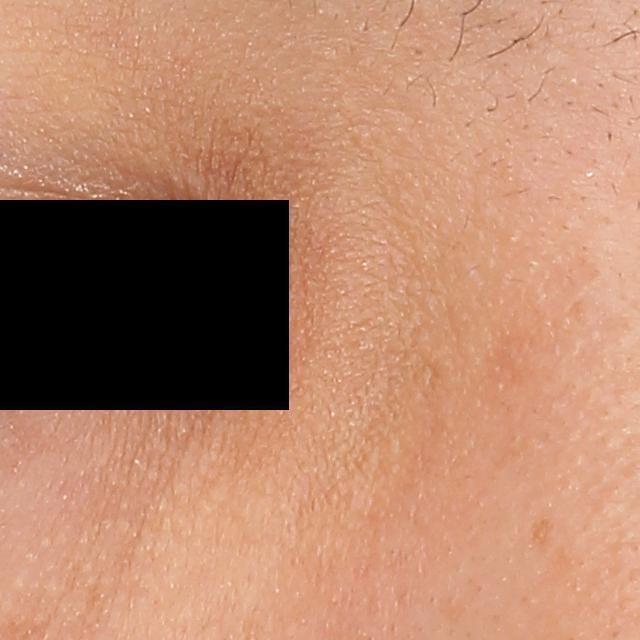melasma: (524, 510, 555, 550)
